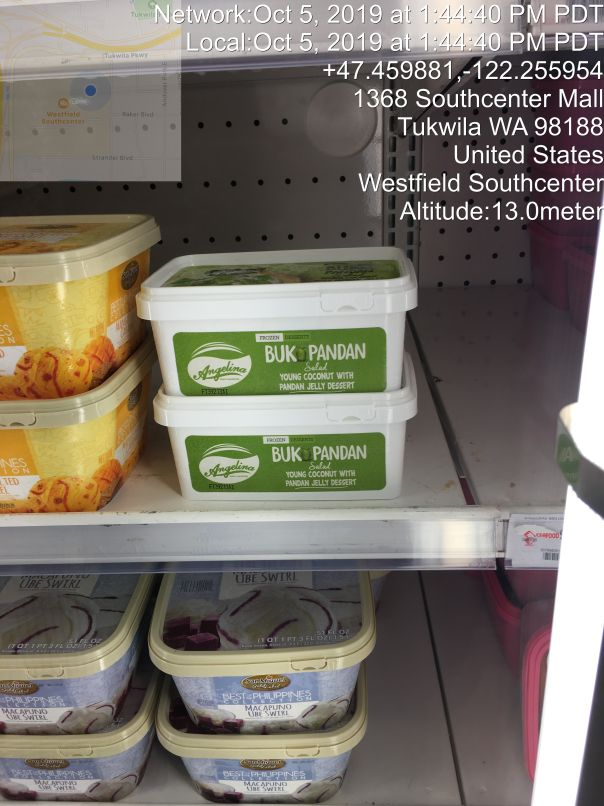Buk Pandan: (138, 232, 449, 404), (138, 370, 450, 518)
Location: (347, 80, 604, 196)
Time: (145, 1, 604, 54)
